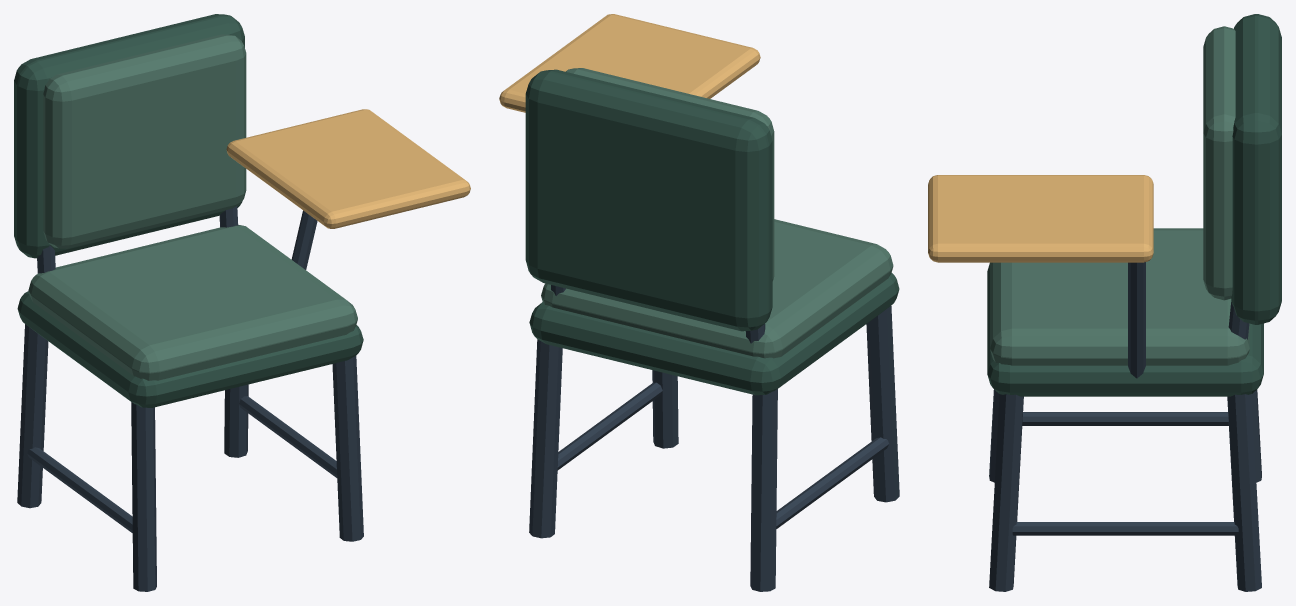
Rendered from chair_training.glb.
The picture shows the model from 3 angles, left to right: view 1: azimuth 30°, elevation 25°; view 2: azimuth 150°, elevation 25°; view 3: azimuth 270°, elevation 25°; orthographic projection. The views are drawn at different scales.
Parts seen in each view (by area): view 1: chair_training__green_velvet, chair_training__green_shadow, chair_training__metal, chair_training__oak_light; view 2: chair_training__green_shadow, chair_training__metal, chair_training__green_velvet, chair_training__oak_light; view 3: chair_training__green_velvet, chair_training__green_shadow, chair_training__oak_light, chair_training__metal.
Part boxes in pixels (bbox=[...]): chair_training__green_velvet: bbox=[28, 34, 357, 380]; chair_training__green_shadow: bbox=[14, 14, 363, 407]; chair_training__metal: bbox=[17, 206, 363, 591]; chair_training__oak_light: bbox=[226, 109, 470, 228]; chair_training__green_shadow: bbox=[525, 69, 899, 395]; chair_training__metal: bbox=[529, 285, 899, 591]; chair_training__green_velvet: bbox=[541, 68, 893, 358]; chair_training__oak_light: bbox=[499, 14, 760, 112]; chair_training__green_velvet: bbox=[990, 26, 1249, 365]; chair_training__green_shadow: bbox=[987, 14, 1281, 396]; chair_training__oak_light: bbox=[928, 175, 1153, 262]; chair_training__metal: bbox=[989, 262, 1261, 591].
Size of the model in its own units: 0.675 by 0.9162 by 0.627.
